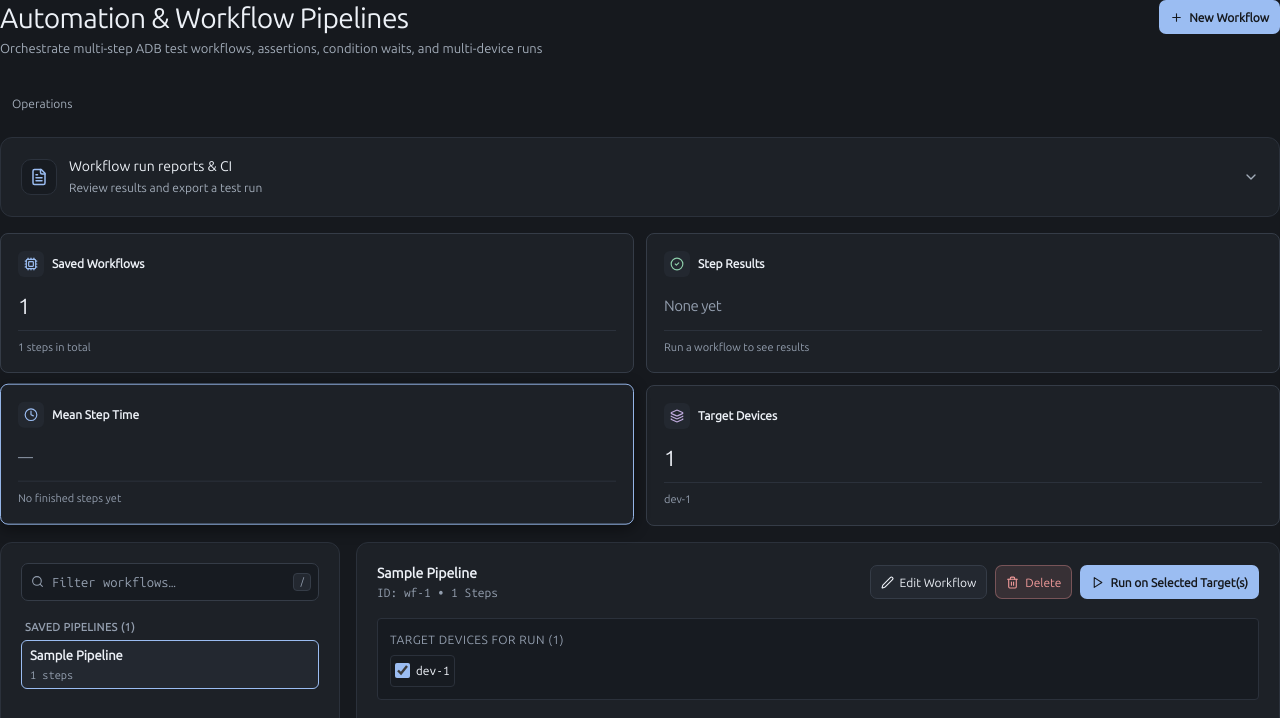
Scenario: AutomationPage Step Parameter Accordion › enforces validation on required fields before saving
The width and height of the screenshot is (1280, 718).
Click the button "New Workflow" at [1220, 17], box [1159,0,1279,34]
(page scrolled)
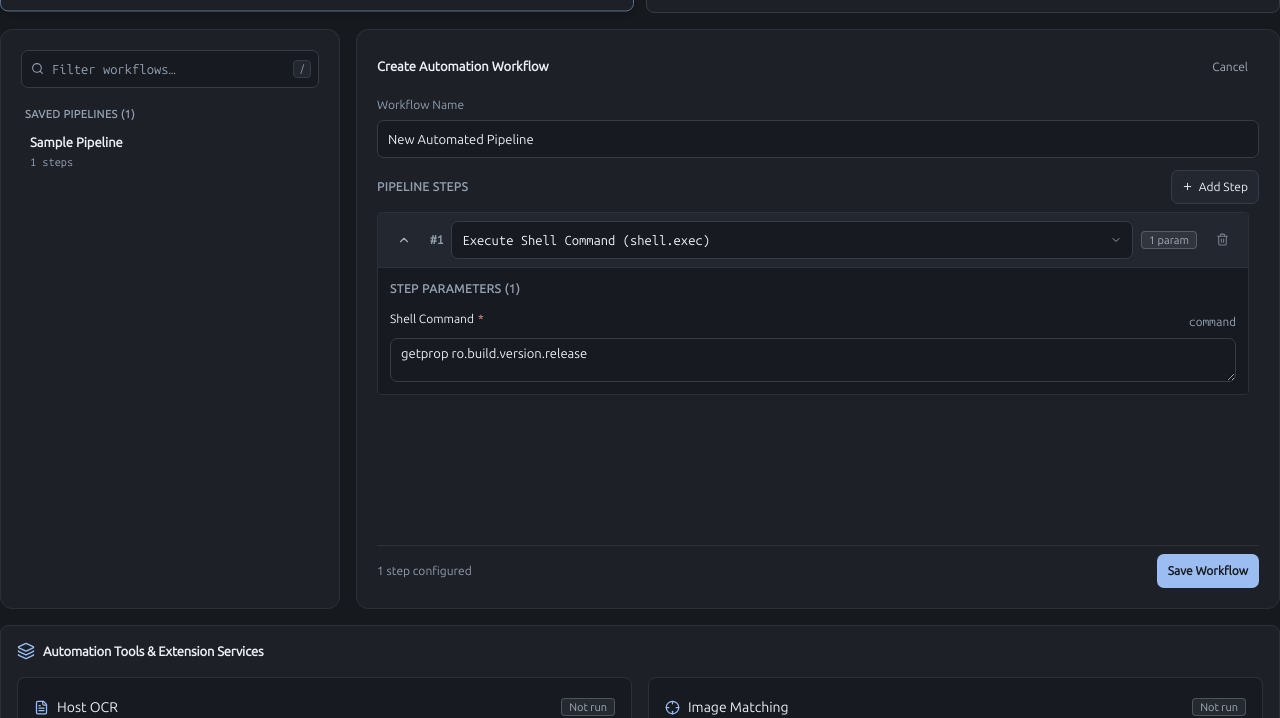
Expected: the button "Save Workflow" is enabled, [1157,554,1259,588]
Clear required command input
Clear the text box labelled "Shell Command*" at [813, 360], box [390,338,1236,382]
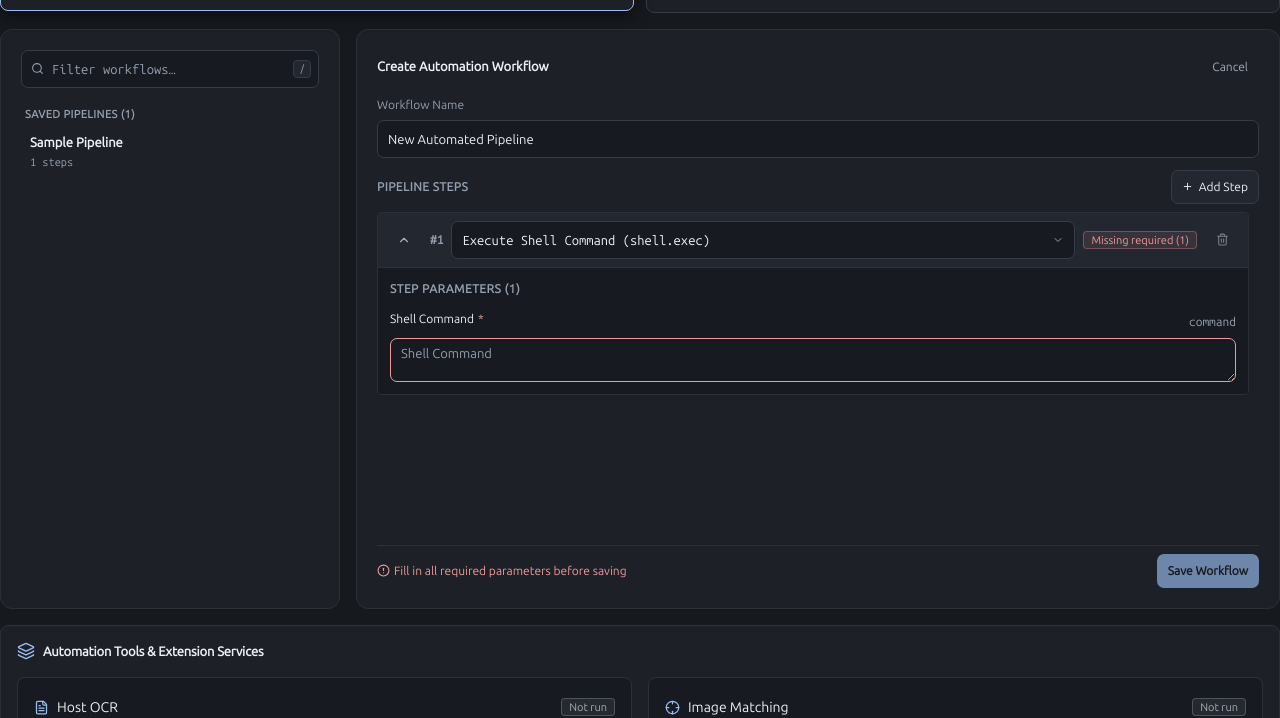
Expected: the button "Save Workflow" is disabled, [1157,554,1259,588]
Expected: the text "Missing required (1)" is shown, [1084,231,1197,249]
Fill valid parameter
Type "pm list packages" into the text box labelled "Shell Command*" at [813, 360], box [390,338,1236,382]
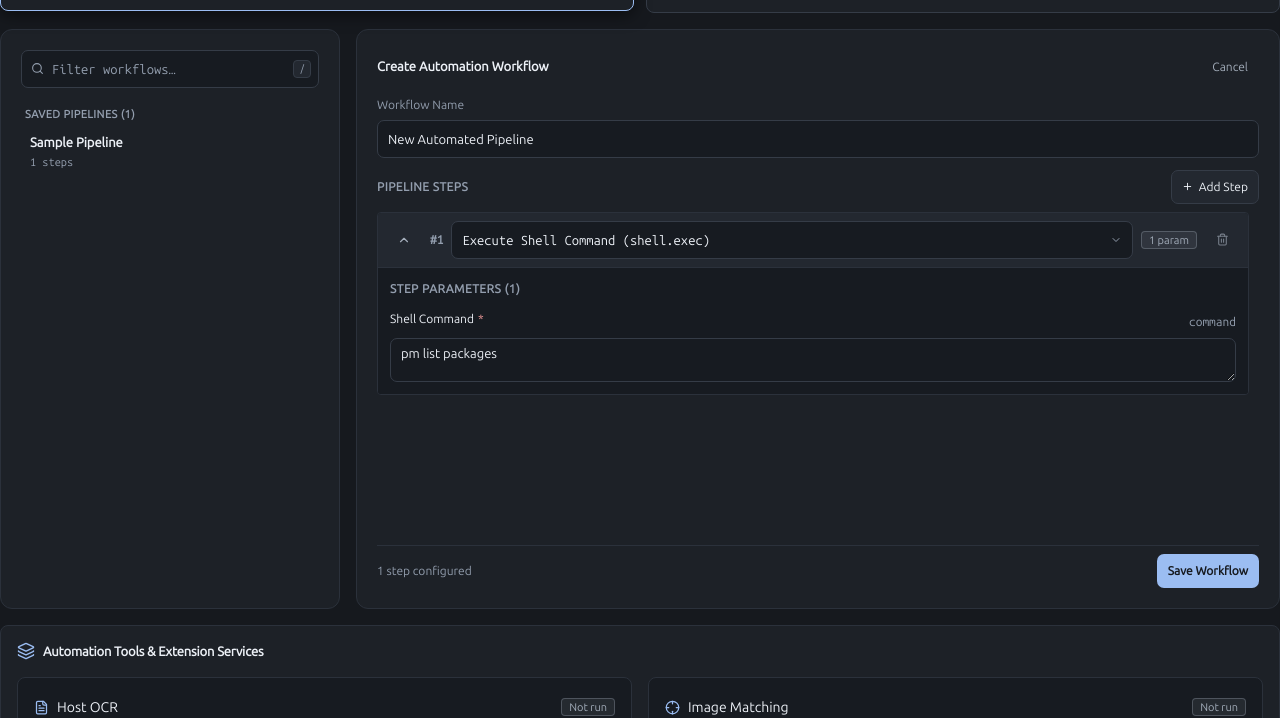
Expected: the button "Save Workflow" is enabled
Click the button "Save Workflow" at [1208, 571], box [1157,554,1259,588]
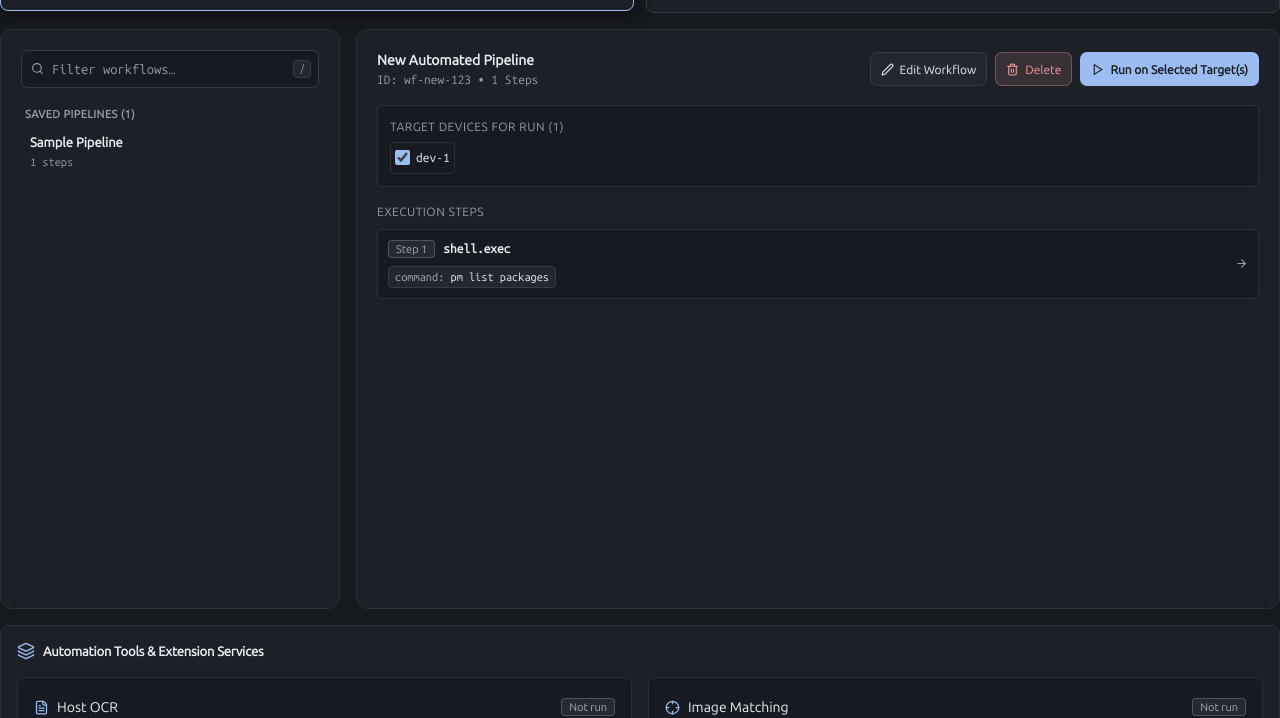
Expected: the text "pm list packages" is shown, [450,271,549,283]
